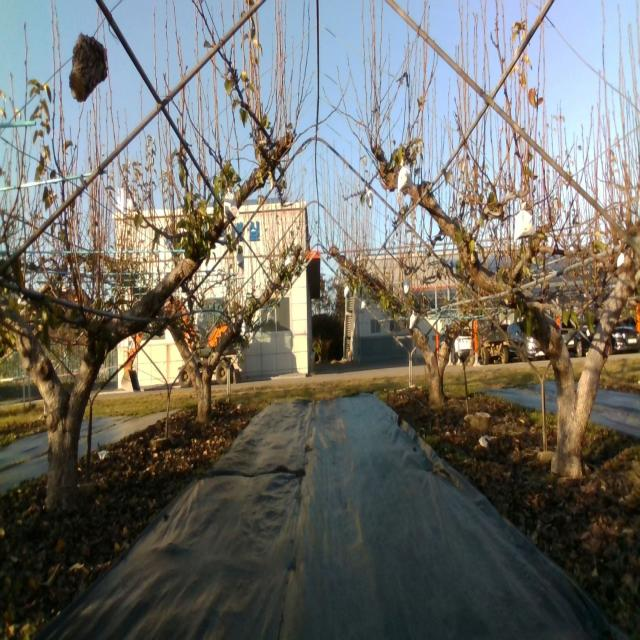pearbags: (513, 201, 536, 240), (222, 188, 240, 227), (397, 158, 415, 195), (196, 308, 207, 330)
